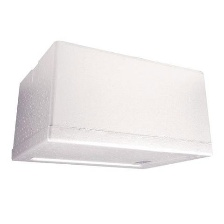foam_box: (7, 37, 217, 174)
